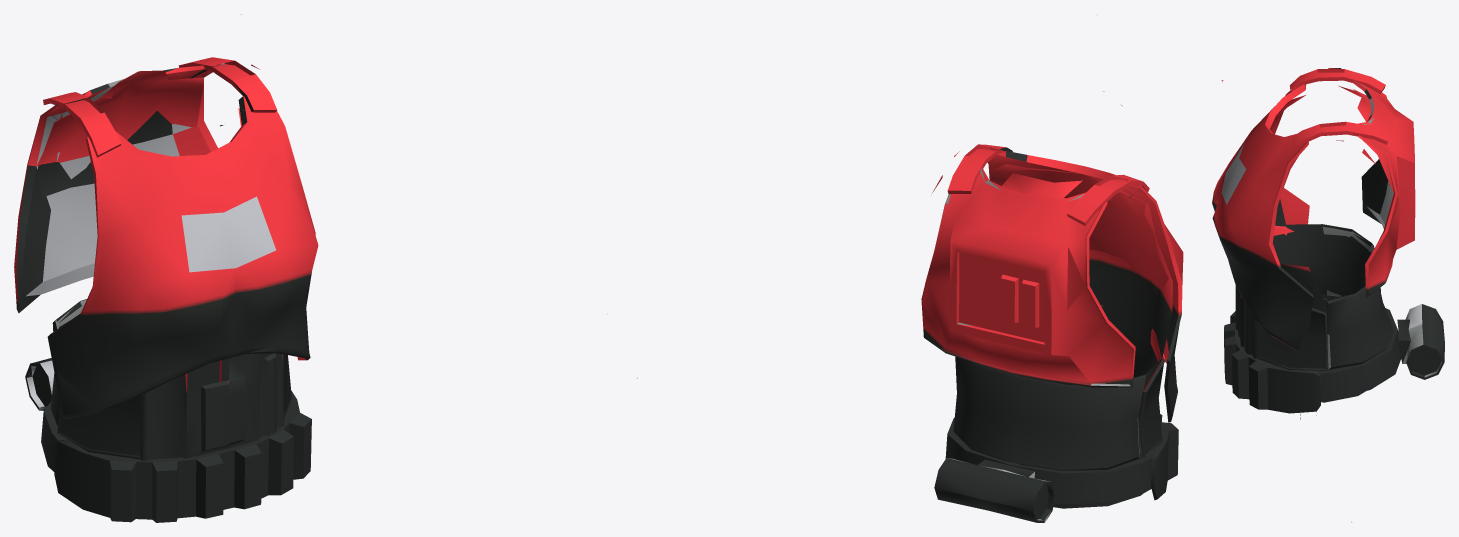
The model's file is StormTrooperArmor.fbx.
3 views of the same model, side by side, from view 1: azimuth 30°, elevation 25°; view 2: azimuth 150°, elevation 25°; view 3: azimuth 270°, elevation 25° (orthographic). The views are drawn at different scales.
Parts seen in each view (by area): view 1: Body; view 2: Body; view 3: Body.
Boxes of the visible parts, x1,y1,x2,y2 form: Body: [14, 14, 318, 522]; Body: [637, 14, 1183, 522]; Body: [1212, 68, 1444, 522].
Bounding box in the file's own units: 0.5827 × 0.476 × 0.2706.
